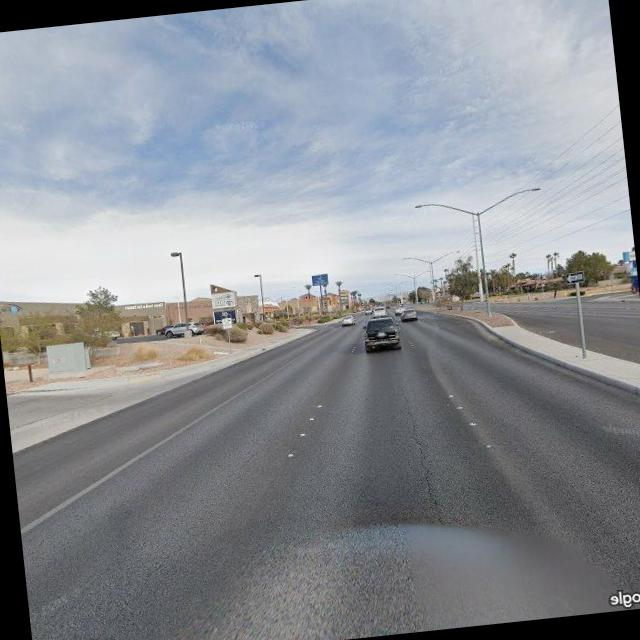pothole: (402, 404, 447, 526)
